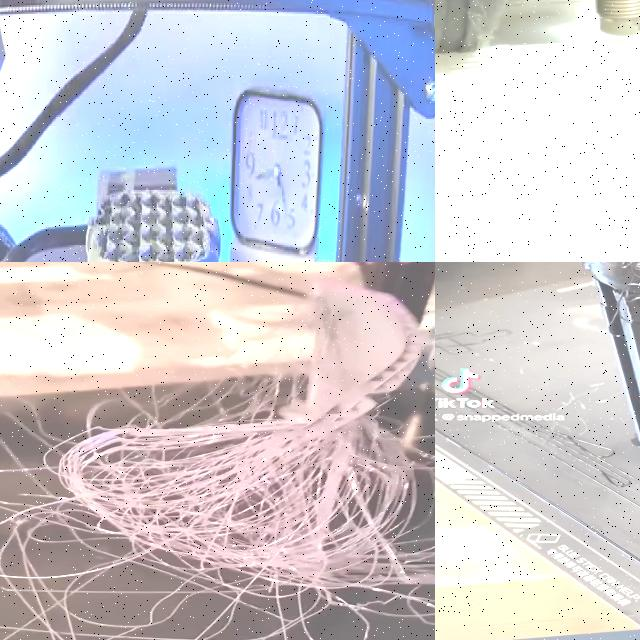spaghetti: (0, 381, 435, 640)
